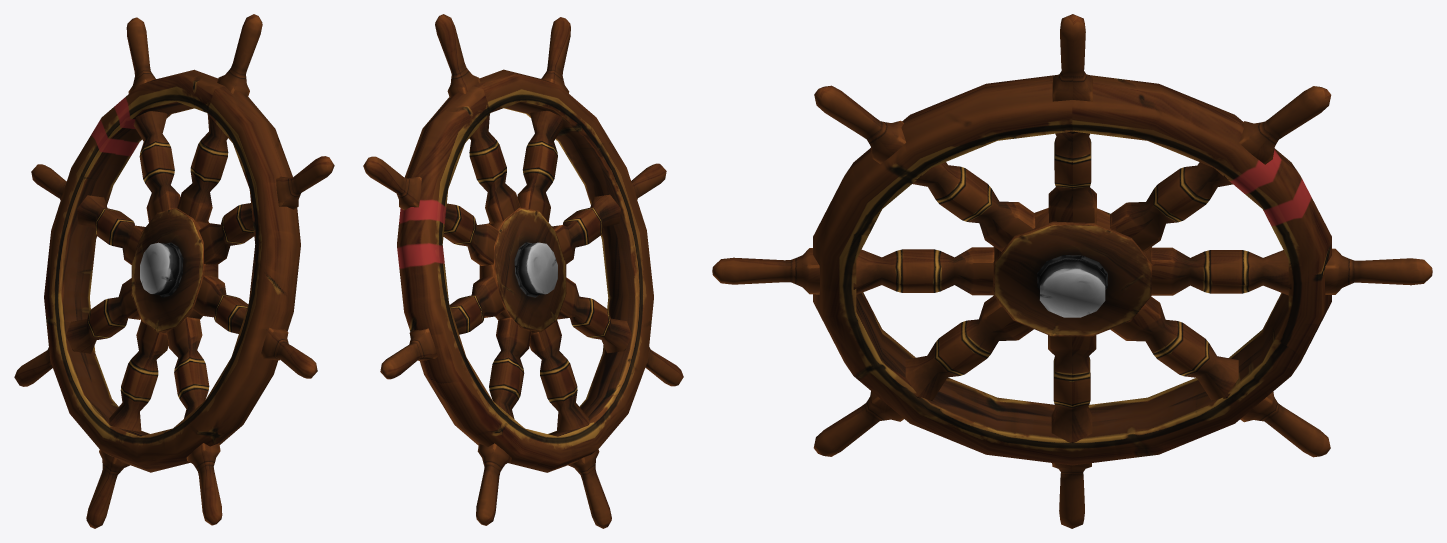
The model's file is Steuerrad.FBX.
3 views of the same model, side by side, from view 1: azimuth 30°, elevation 25°; view 2: azimuth 150°, elevation 25°; view 3: azimuth 270°, elevation 25° (orthographic). The views are drawn at different scales.
Visible parts, largest first — view 1: Object007; view 2: Object007; view 3: Object007.
Boxes of the visible parts, <box> form: Object007: <box>14,14,334,528</box>; Object007: <box>363,14,683,528</box>; Object007: <box>712,14,1432,528</box>.
Bounding box in the file's own units: 16.6 × 45.28 × 42.64.
